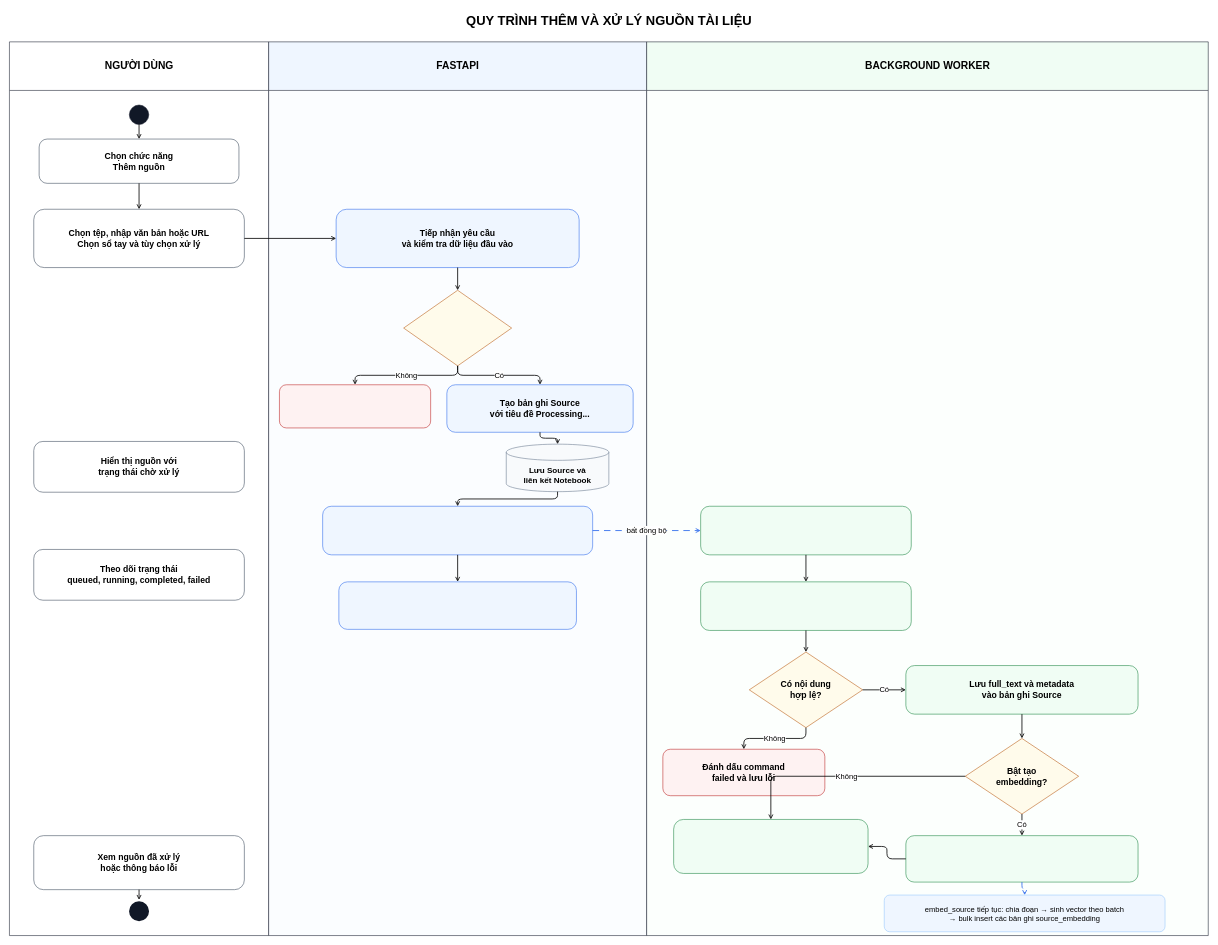
The diagram is 1218 pixels wide and 945 high, and some of its shapes have lost their labels. Here are the shapes that lost their labels. From the top down, the centre of each, then its label:
At point 457,328: "Dữ liệu hợp lệ?".
At point 355,406: "Trả lỗi kiểm tra dữ liệu đầu vào".
At point 457,530: "Gửi lệnh process_source vào hàng đợi Surreal Commands".
At point 805,530: "Nhận và thực thi lệnh process_source".
At point 457,605: "Trả source_id và trạng thái queued".
At point 805,605: "Trích xuất nội dung bằng content-core".
At point 770,846: "Chạy transformation được chọn và hoàn tất process_source".
At point 1021,858: "Gửi lệnh embed_source vào hàng đợi riêng".
